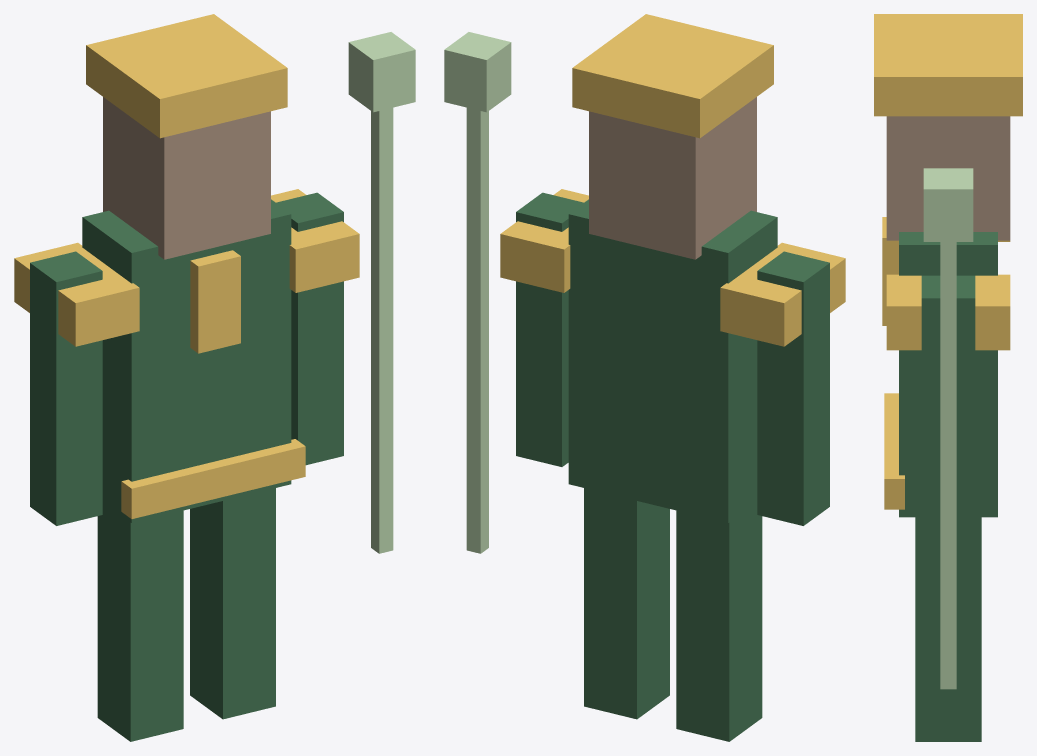
Rendered from 11_tovin_ironwake_guide_from.glb.
3 views of the same model, side by side, from view 1: azimuth 30°, elevation 25°; view 2: azimuth 150°, elevation 25°; view 3: azimuth 270°, elevation 25° (orthographic).
Visible parts, largest first — view 1: Tovin Ironwake, Guide from; view 2: Tovin Ironwake, Guide from; view 3: Tovin Ironwake, Guide from.
Part boxes in pixels (x1,y1,x2,y2): Tovin Ironwake, Guide from: [14, 14, 415, 741]; Tovin Ironwake, Guide from: [444, 14, 845, 741]; Tovin Ironwake, Guide from: [874, 14, 1022, 741].
Bounding box in the file's own units: 0.9351 × 1.63 × 0.3316.
